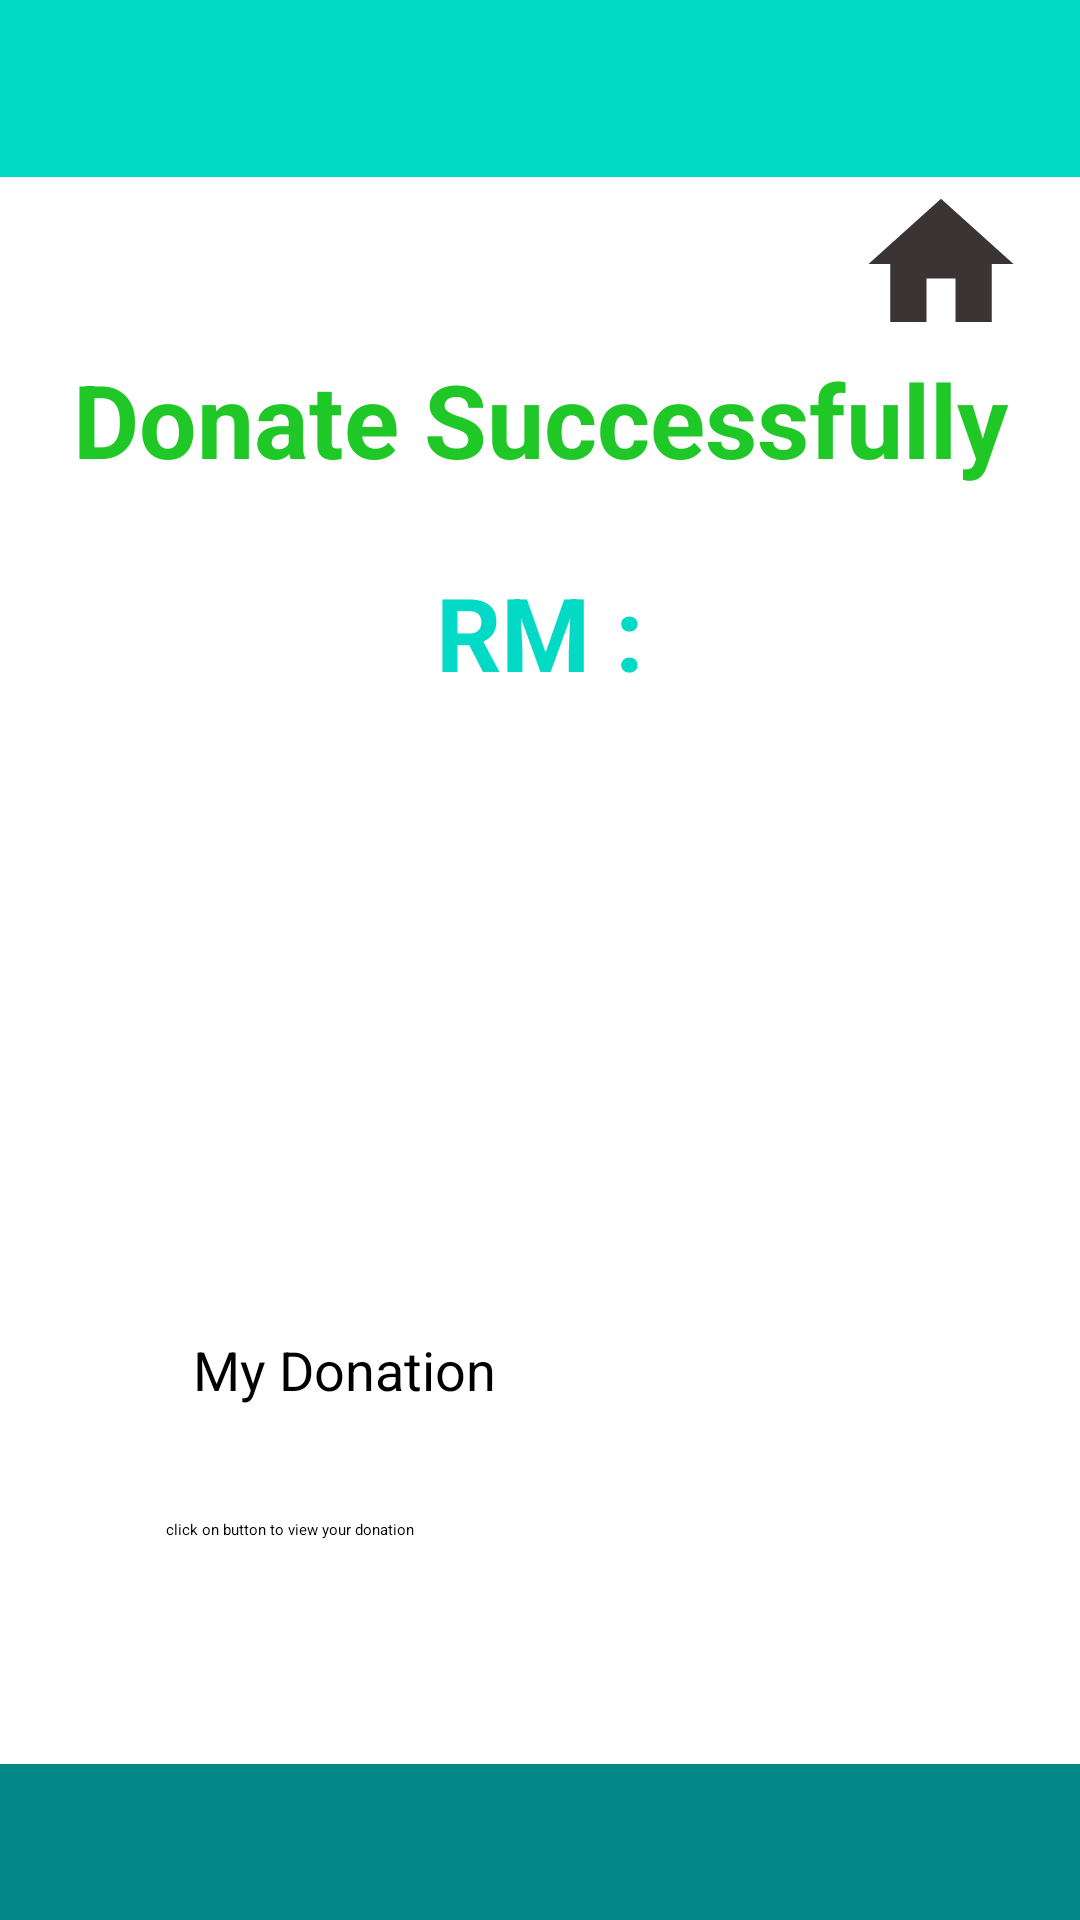

Named icons in this screenshot (1080w x 1920h) and their centers, [x,y]:
home: [941,260]
